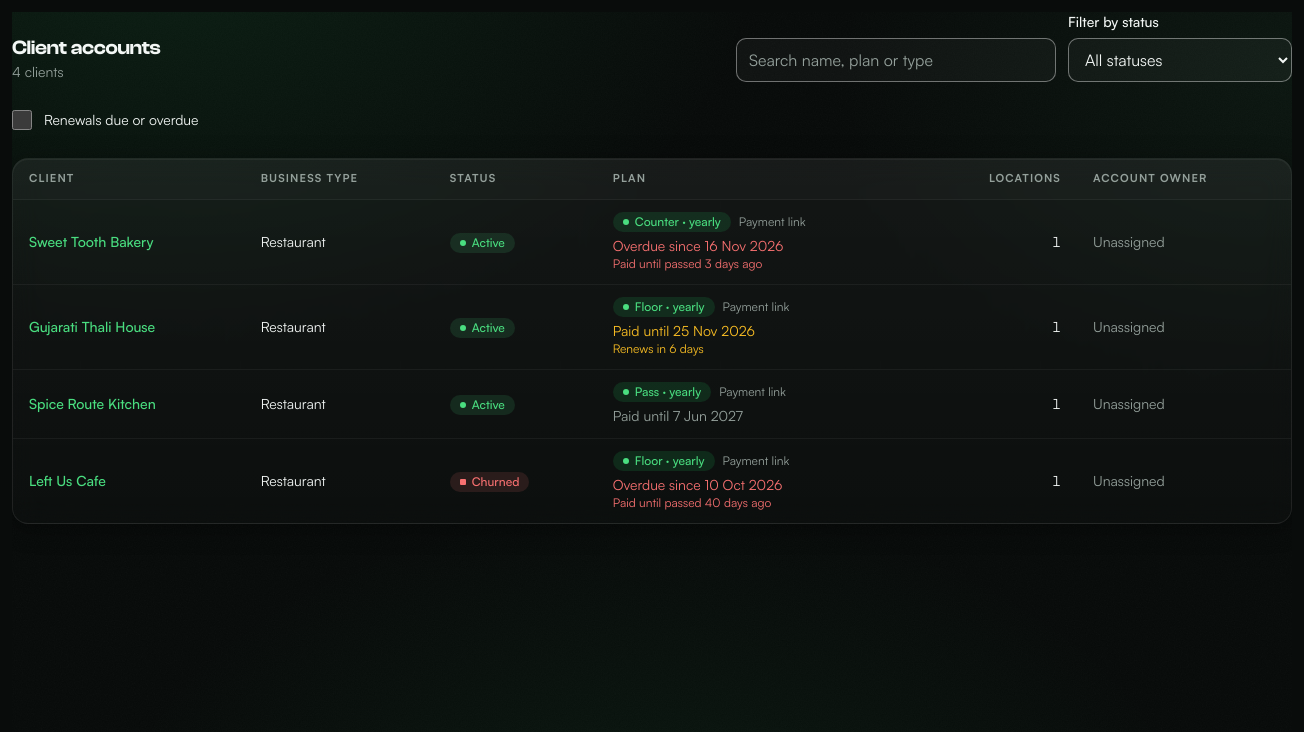
Test case: Clients list › finds a client by name or plan, and says so when nothing matches
Type "thali" into the search field named "Search clients". click: (896, 60)
box: [736,38,1056,82]
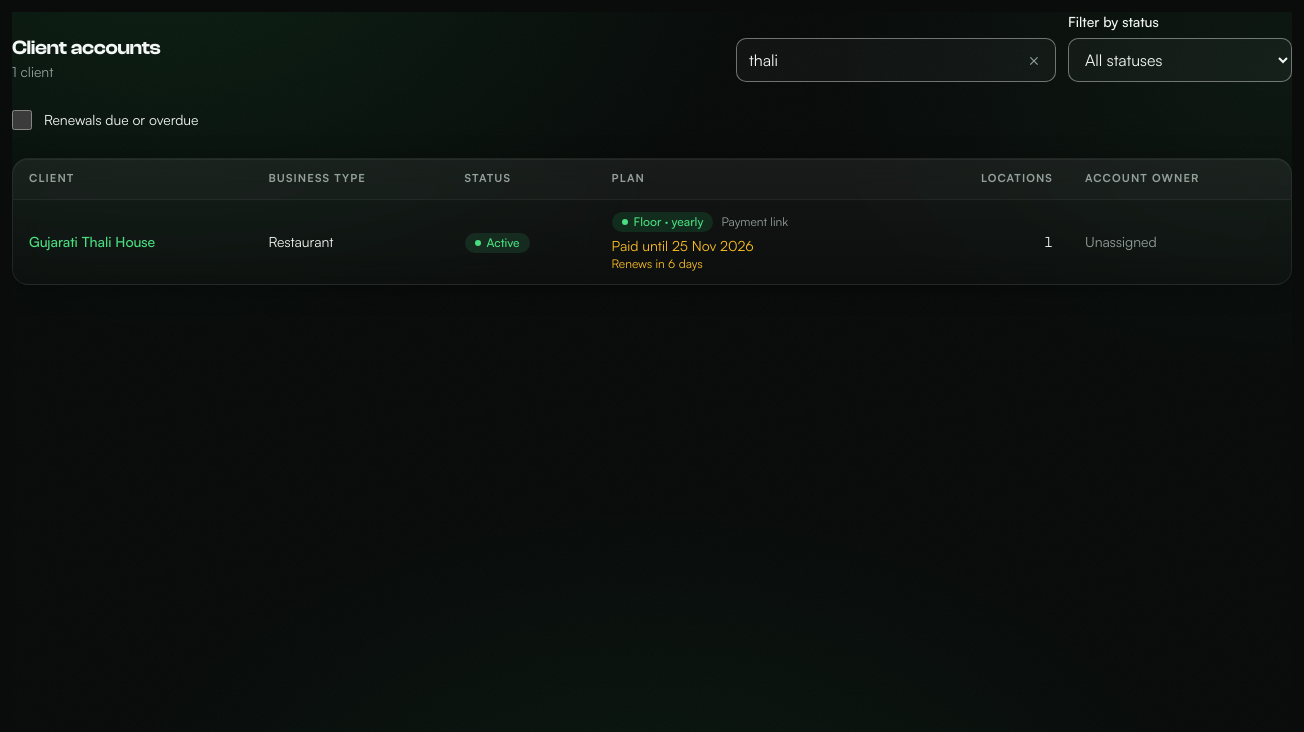
Check: no buttons "Sweet Tooth Bakery" are shown
Replace the text in the search field named "Search clients" with "pass". click: (896, 60)
box: [736,38,1056,82]
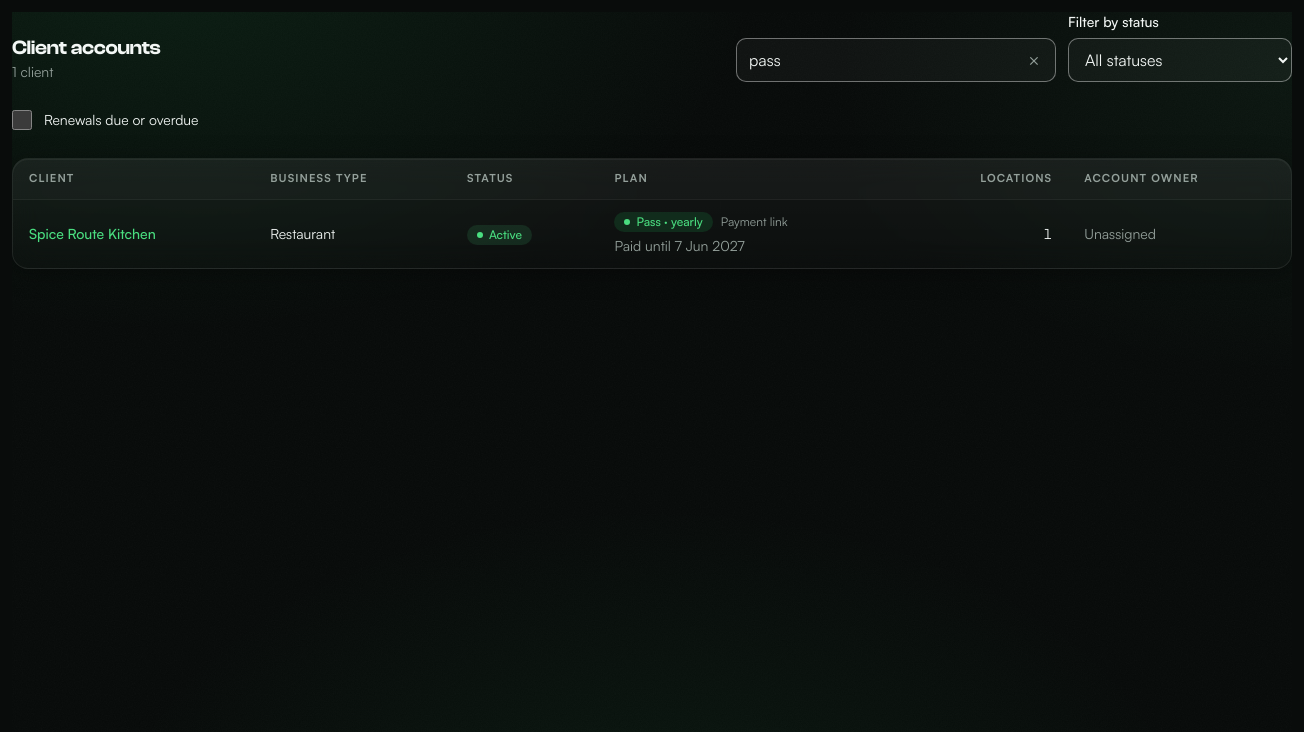
Replace the text in the search field named "Search clients" with "nobody-here". click: (896, 60)
box: [736,38,1056,82]
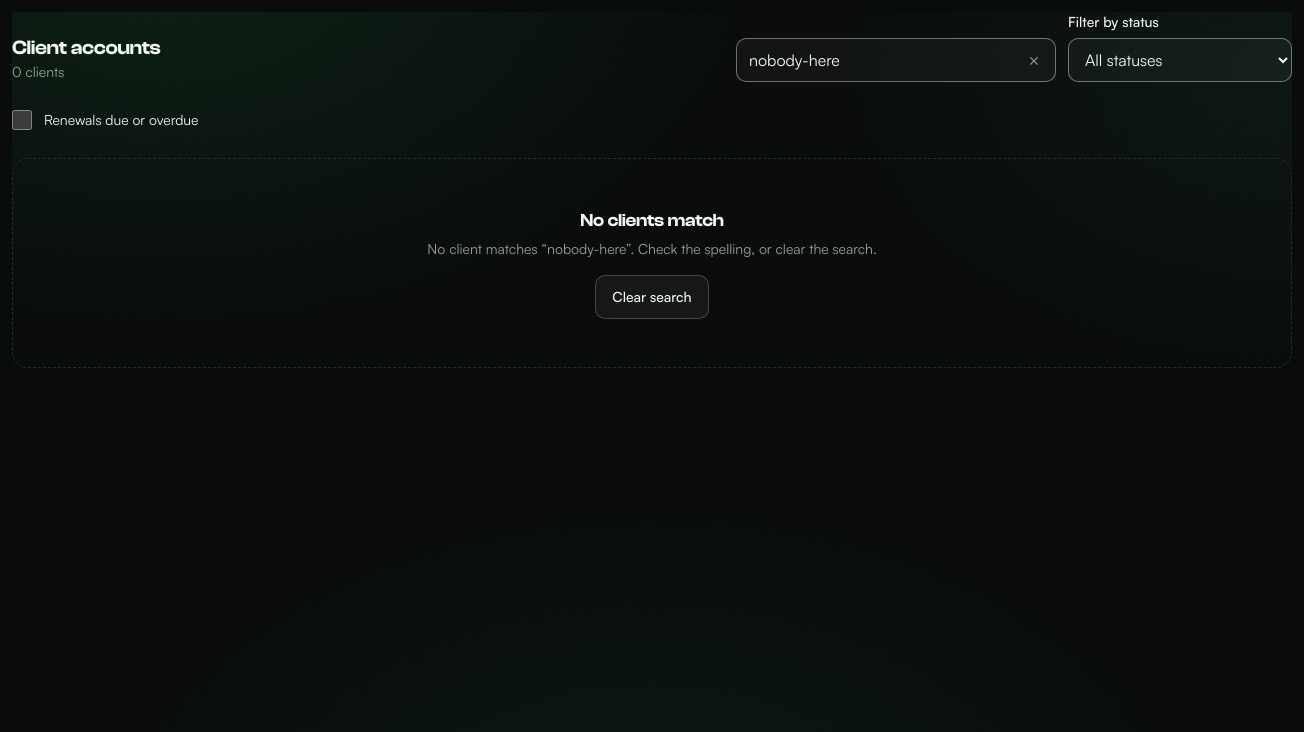
Check: the heading "No clients match" is shown, box [580,210,724,231]
